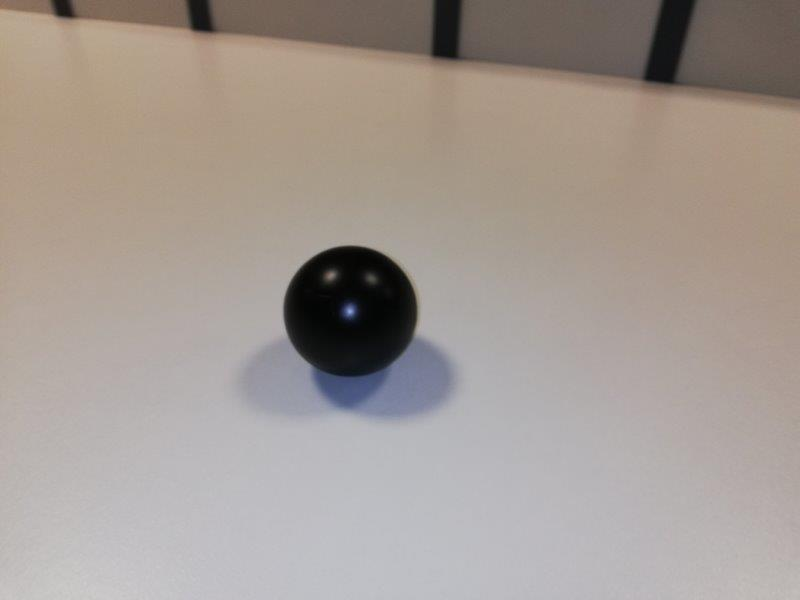nera: (280, 245, 420, 377)
